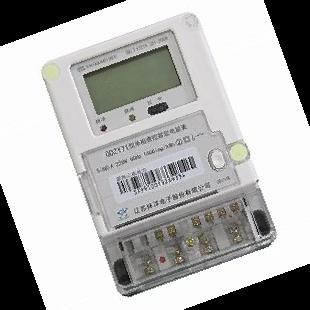digital: (42, 13, 257, 240)
